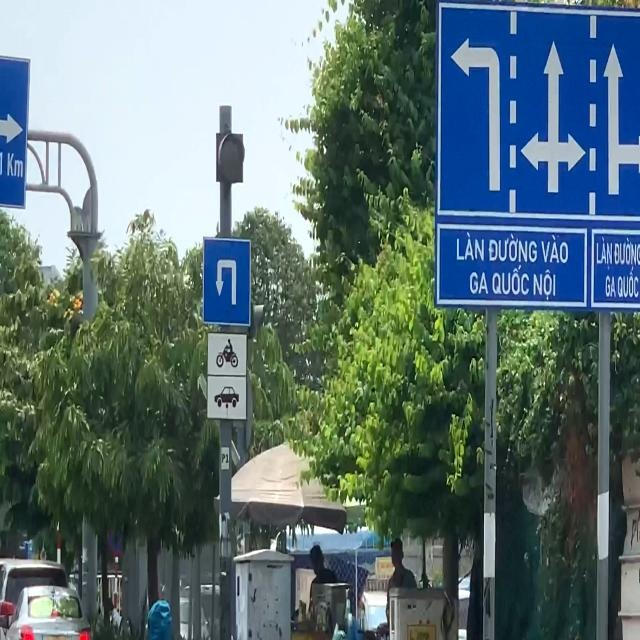bien_chi_dan: (203, 236, 251, 327)
